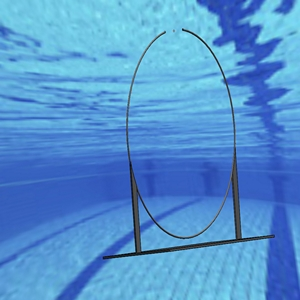circle: (105, 27, 274, 258)
